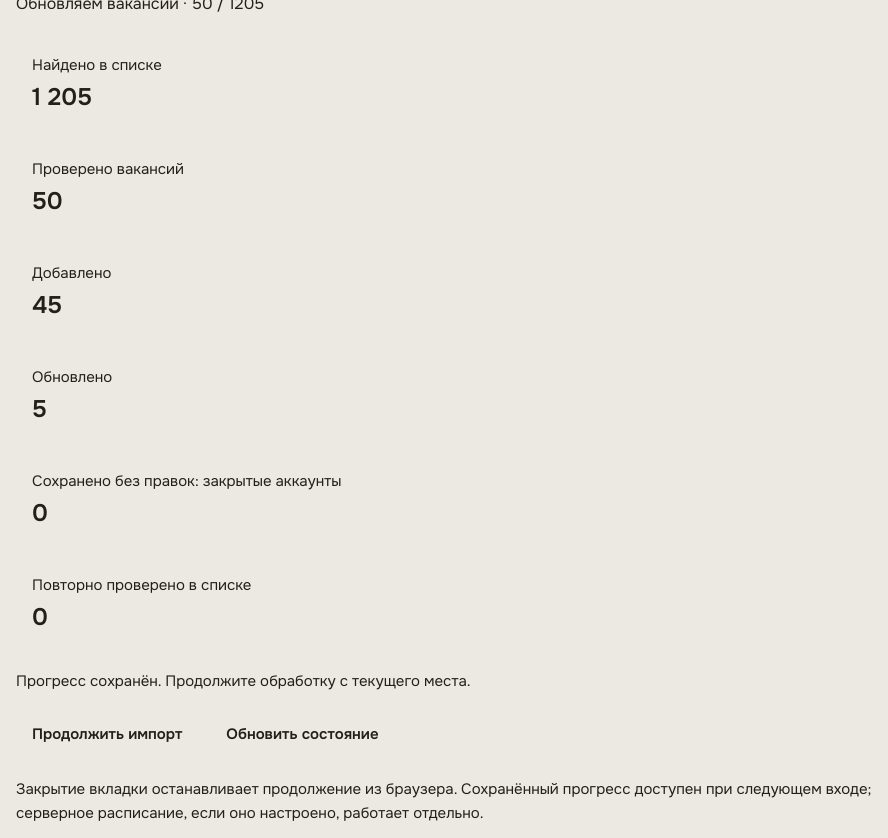
Test: continuing runs small requests automatically and finishes only after confirmed completion
The image size is (888, 838).
(page scrolled)
Click the button "Продолжить импорт": [107, 735] box [16,713,198,757]
Wait 3000 ms
(page scrolled)
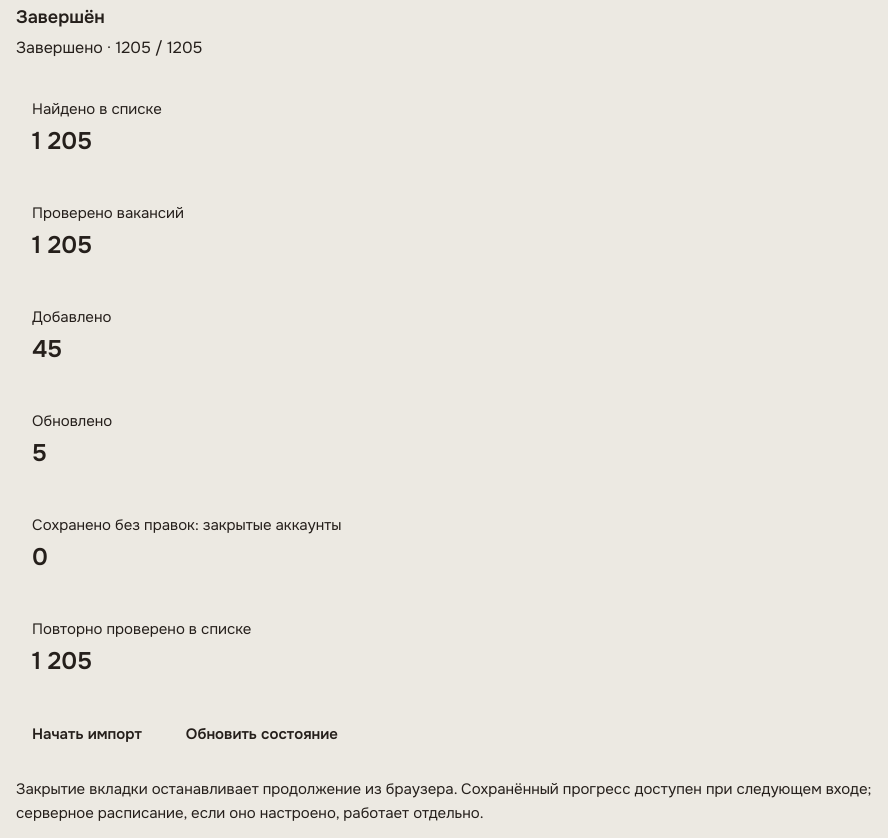
Expected: the heading "Завершён" is shown, [16,6,105,28]
